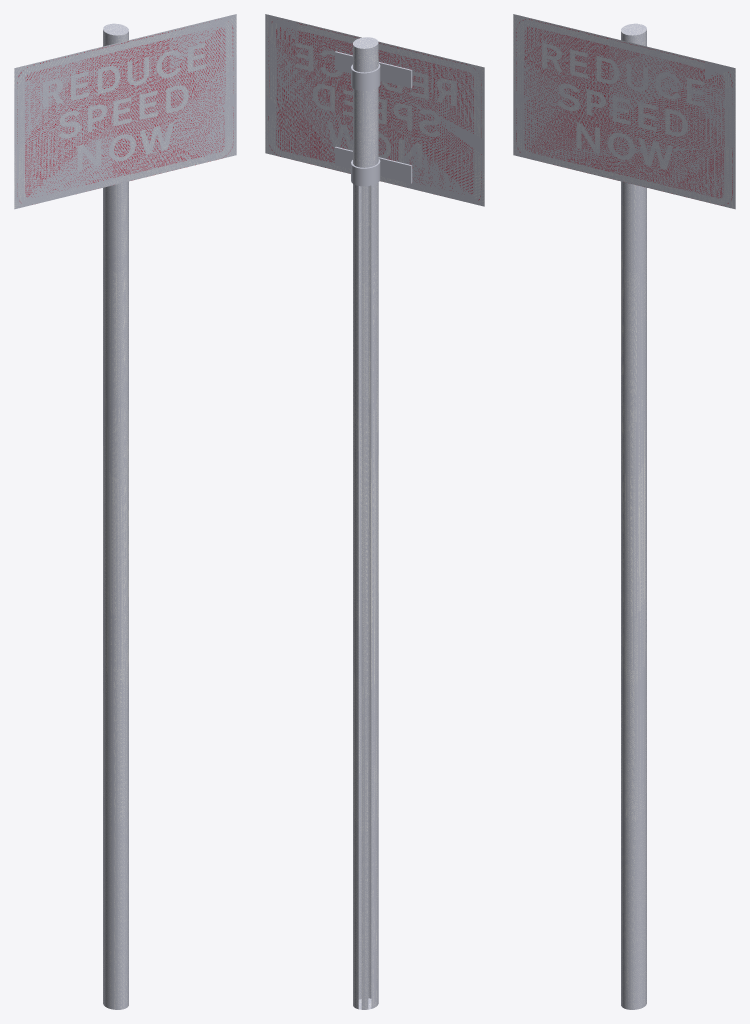
Rendered from ReduceSpeed.fbx.
The picture shows the model from 3 angles, left to right: view 1: azimuth 30°, elevation 25°; view 2: azimuth 150°, elevation 25°; view 3: azimuth 330°, elevation 25°; orthographic projection.
Visible parts, largest first — view 1: ReduceSpeed; view 2: ReduceSpeed; view 3: ReduceSpeed.
Part boxes in pixels (x1=…): ReduceSpeed: x1=14, y1=14, x2=236, y2=1009; ReduceSpeed: x1=265, y1=14, x2=484, y2=1009; ReduceSpeed: x1=513, y1=14, x2=735, y2=1009.
Bounding box in the file's own units: 90.86 × 381 × 12.54.
